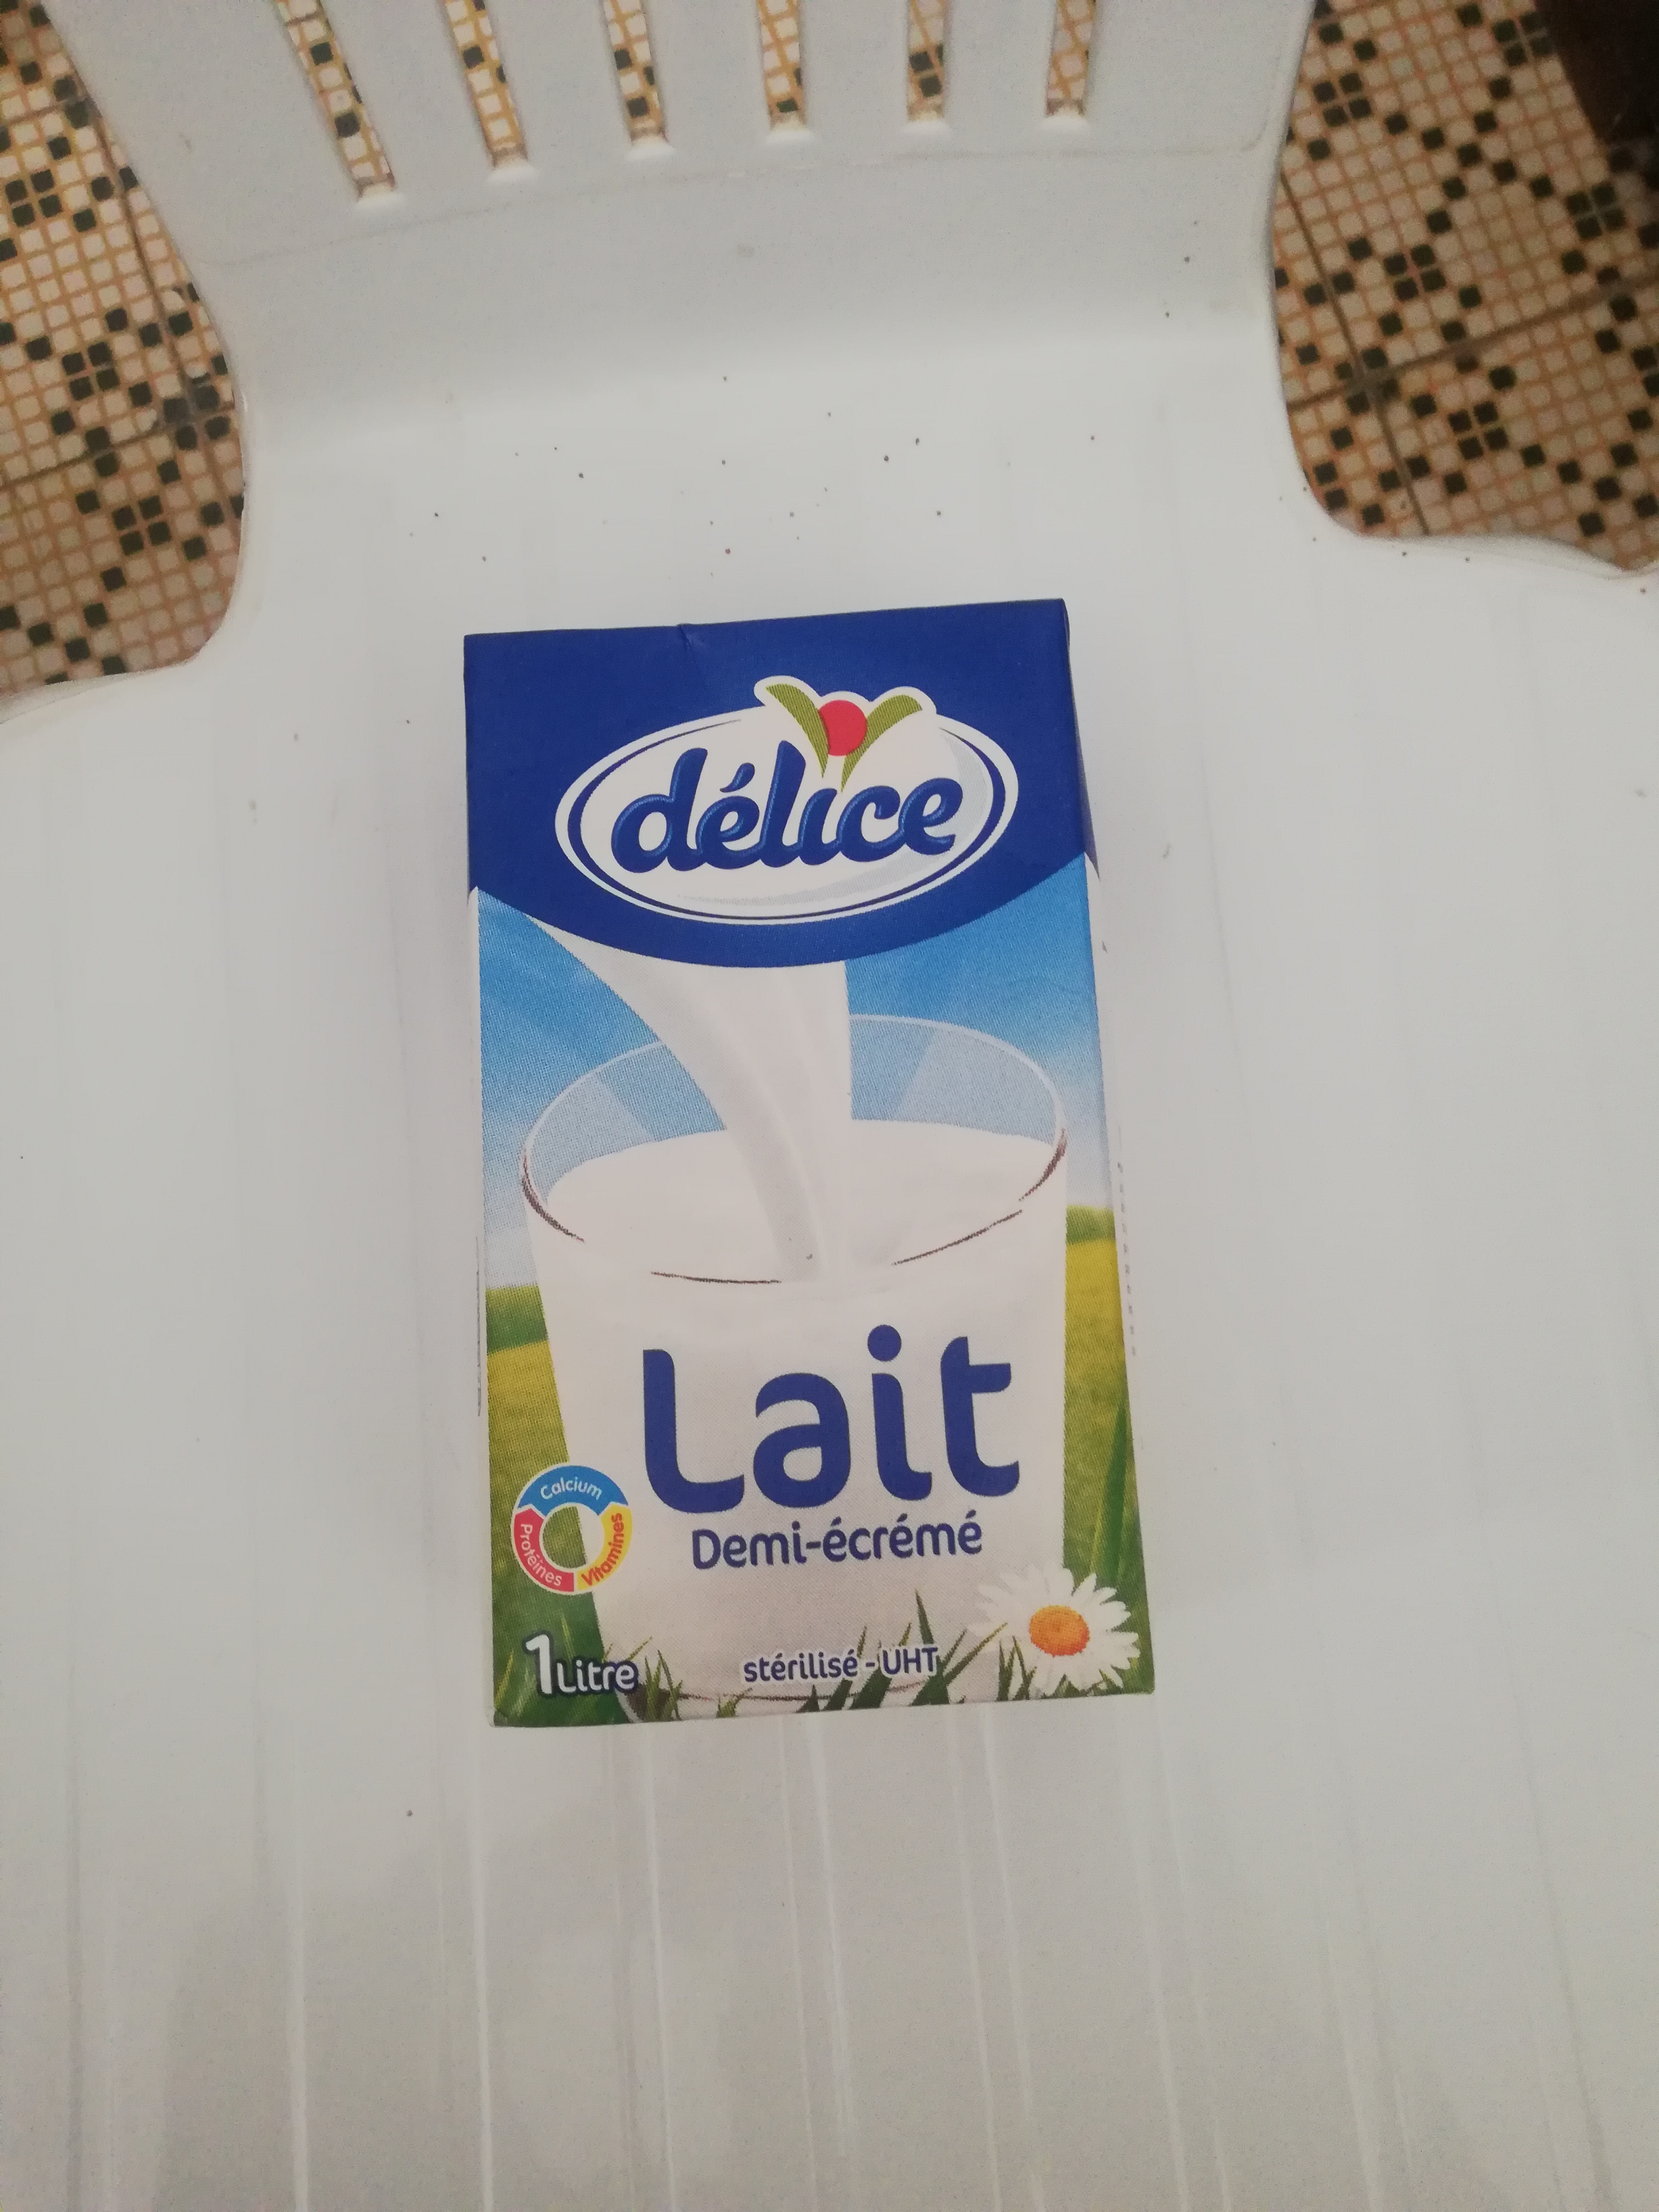Lait delice: (462, 597, 1173, 1726)
